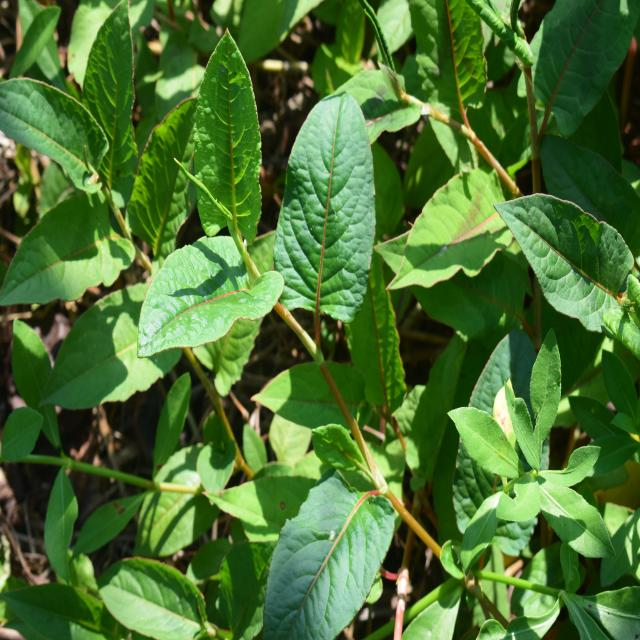Chinese_knotweed: (153, 41, 394, 441)
